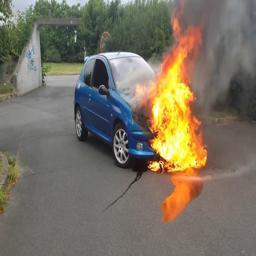fire: (136, 15, 208, 173)
